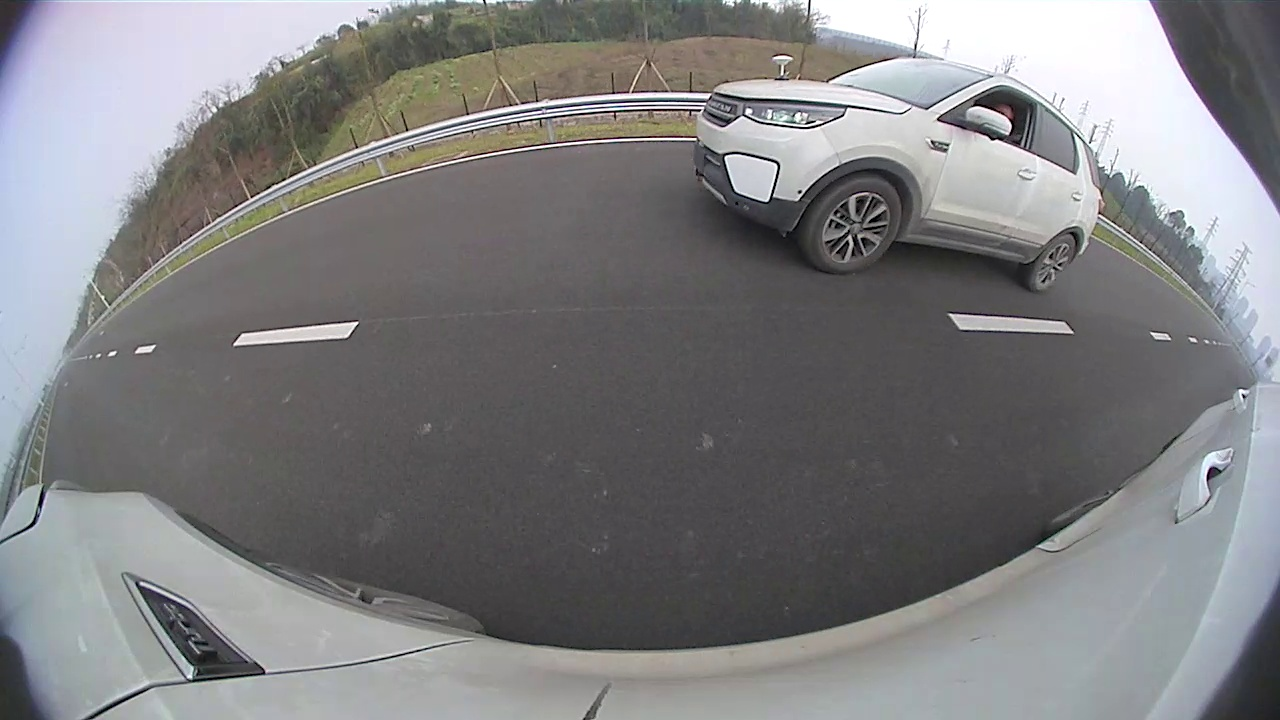car: (695, 59, 1103, 293)
front: (803, 169, 907, 281)
rear: (1024, 231, 1081, 298)
